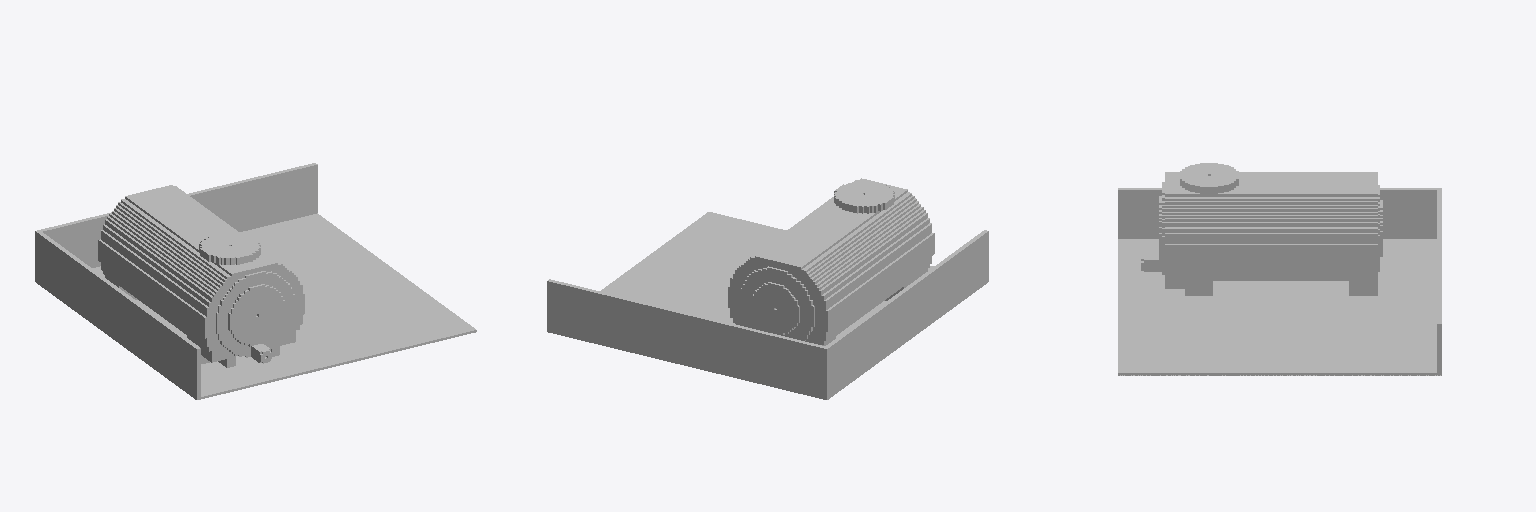
The model's file is 4x2 second-6.obj.
The picture shows the model from 3 angles: view 1: azimuth 30°, elevation 25°; view 2: azimuth 150°, elevation 25°; view 3: azimuth 270°, elevation 25°; orthographic projection.
Visible parts, largest first — view 1: 4x2 second-6; view 2: 4x2 second-6; view 3: 4x2 second-6.
Boxes of the visible parts, x1,y1,x2,y2 form: 4x2 second-6: [35, 163, 476, 399]; 4x2 second-6: [547, 178, 988, 399]; 4x2 second-6: [1118, 163, 1441, 375].
Size of the model in its own units: 126 by 44 by 126.